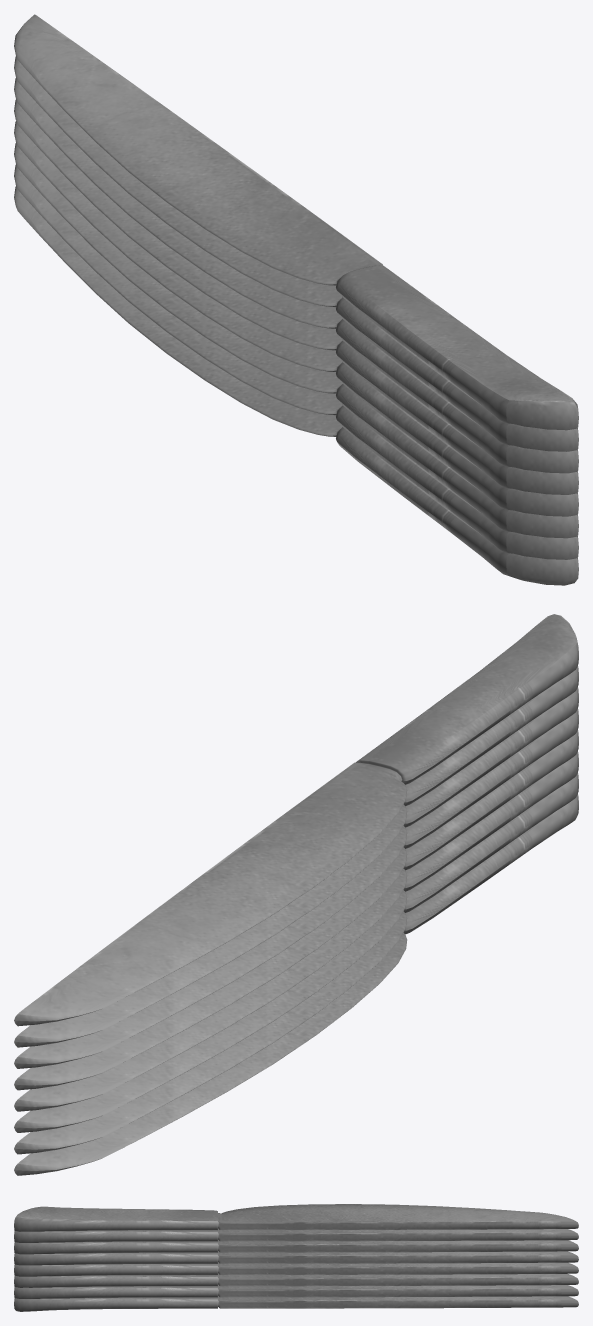
File: KnifeStack.fbx
3 renders of one model, top to bottom at view 1: azimuth 30°, elevation 25°; view 2: azimuth 150°, elevation 25°; view 3: azimuth 270°, elevation 25°, orthographic. The views are drawn at different scales.
Parts seen in each view (by area): view 1: Knife; view 2: Knife; view 3: Knife.
Part boxes in pixels (left/top/right/bottom): Knife: left=14, top=14, right=578, bottom=585; Knife: left=14, top=614, right=578, bottom=1175; Knife: left=14, top=1204, right=578, bottom=1311.
Bounding box in the file's own units: 2.17 × 4.25 × 22.42.
